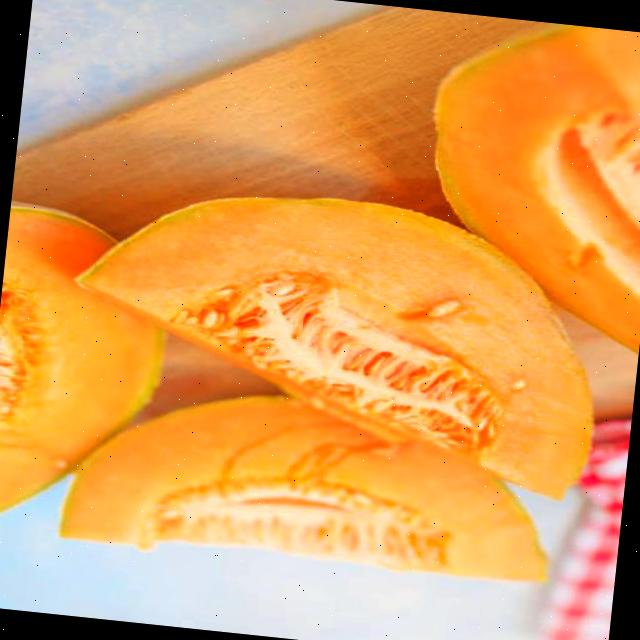Hami Melon: (64, 176, 609, 500), (58, 376, 564, 588)
